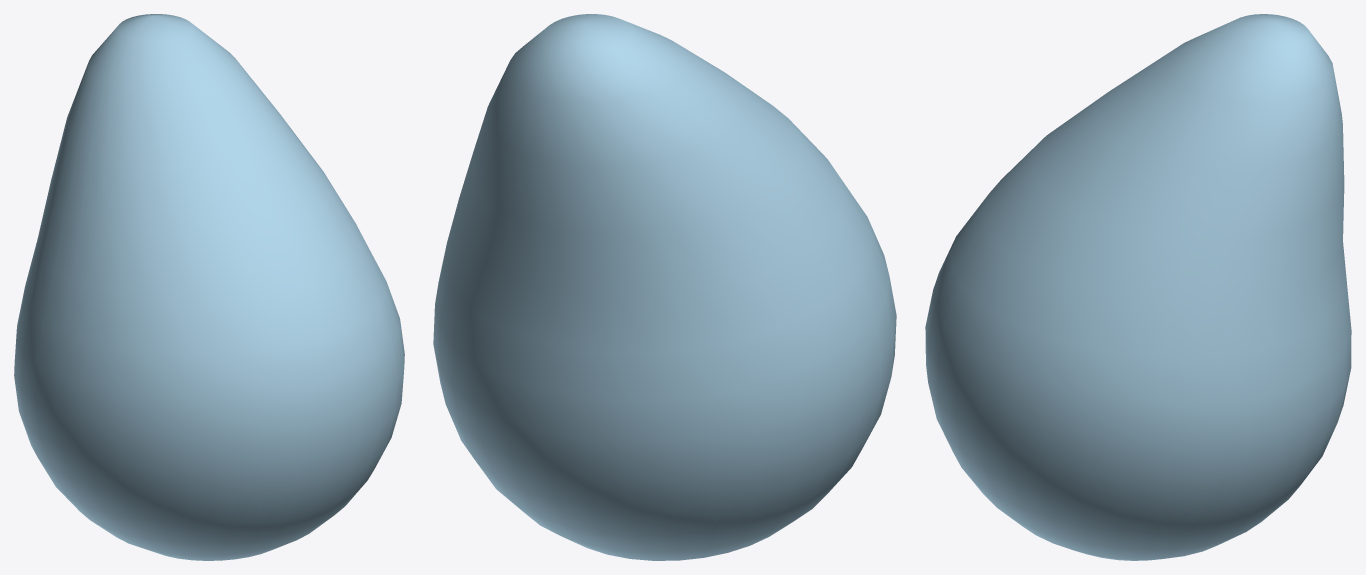
File: water_drop.glb
The picture shows the model from 3 angles, left to right: view 1: azimuth 30°, elevation 25°; view 2: azimuth 150°, elevation 25°; view 3: azimuth 270°, elevation 25°; orthographic projection. The views are drawn at different scales.
Parts seen in each view (by area): view 1: Сфера; view 2: Сфера; view 3: Сфера.
Part boxes in pixels (left/top/right/bottom): Сфера: left=14, top=14, right=404, bottom=560; Сфера: left=433, top=14, right=896, bottom=560; Сфера: left=925, top=14, right=1351, bottom=560.
Bounding box in the file's own units: 2 × 2.69 × 1.99.
